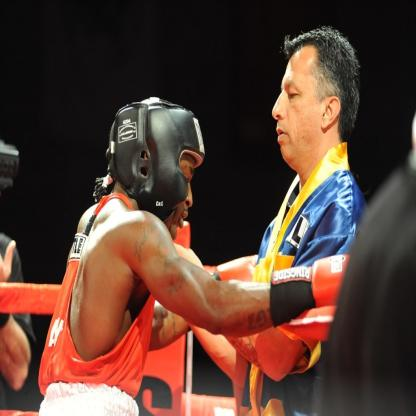Helmet: (101, 98, 211, 223)
